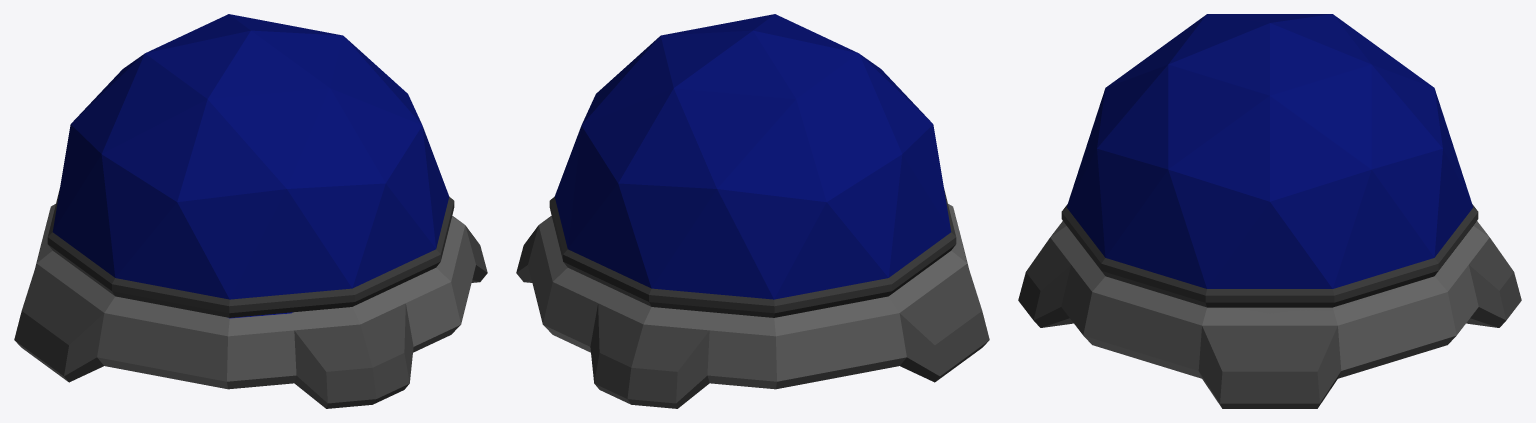
File: SpaceShip.fbx
The picture shows the model from 3 angles, left to right: view 1: azimuth 30°, elevation 25°; view 2: azimuth 150°, elevation 25°; view 3: azimuth 270°, elevation 25°; orthographic projection.
Visible parts, largest first — view 1: Ship; view 2: Ship; view 3: Ship.
Boxes of the visible parts, x1,y1,x2,y2 form: Ship: (14,14,487,408); Ship: (516,14,989,408); Ship: (1018,14,1521,408).
Size of the model in its own units: 241 by 155 by 248.
1 material, 1 textured.
